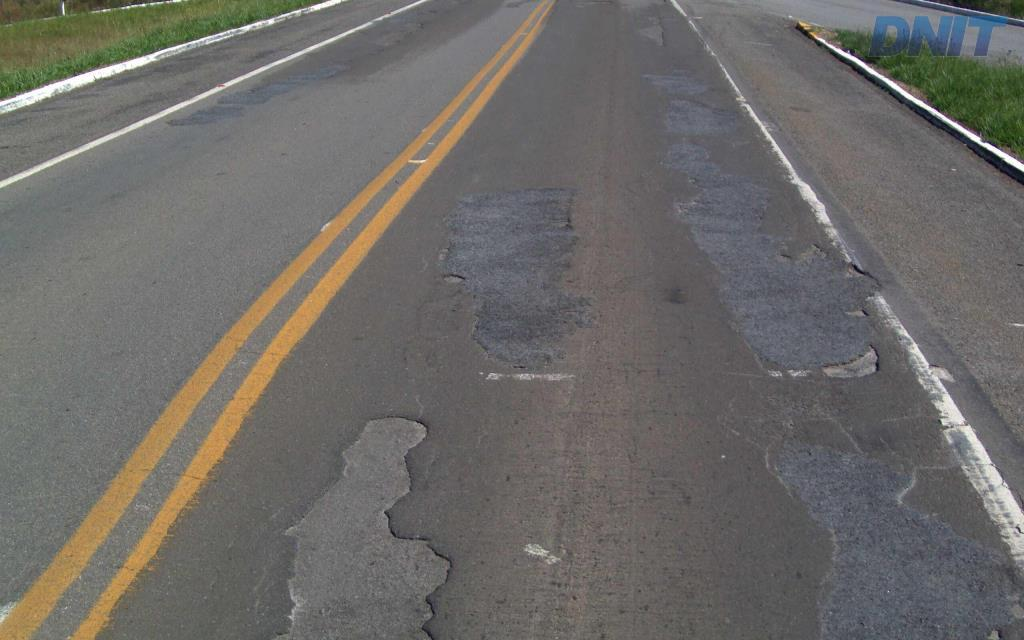pothole: (262, 413, 460, 638), (819, 338, 885, 381), (629, 13, 669, 53), (432, 270, 471, 289), (840, 260, 867, 279), (839, 304, 868, 319)
